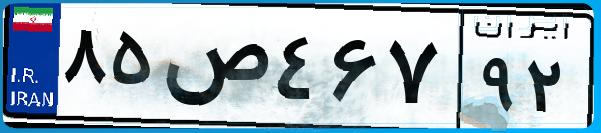2: (525, 38, 570, 115)
4: (270, 28, 330, 110)
5: (110, 28, 158, 98)
6: (330, 28, 385, 110)
7: (385, 28, 445, 110)
8: (57, 26, 110, 100)
9: (475, 38, 525, 113)
ص: (158, 20, 270, 120)
